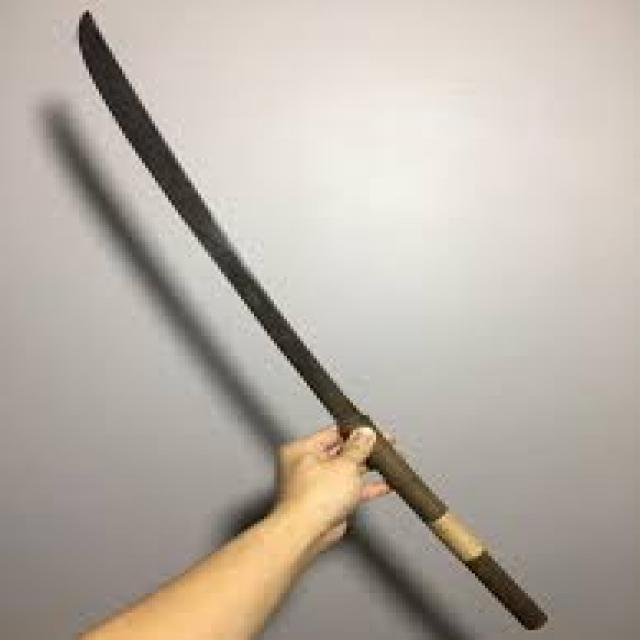long sword: (68, 6, 554, 634)
